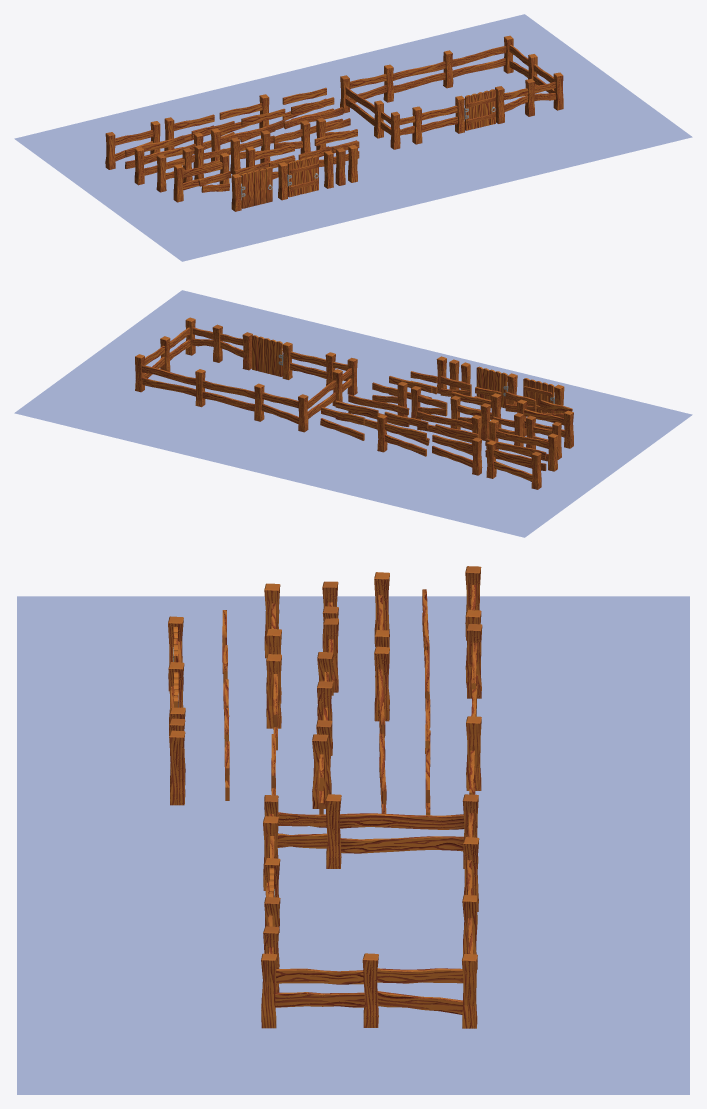
Rendered from fences.glb.
3 views of the same model, one above another, from view 1: azimuth 30°, elevation 25°; view 2: azimuth 150°, elevation 25°; view 3: azimuth 270°, elevation 25° (orthographic). The views are drawn at different scales.
Visible parts, largest first — view 1: Ground, FenceType_1.001, DoorType_2, DoorType_1.001, DoorType_1, FenceType_2.001, FenceType_11, FenceType_8.001, FenceType_5, FenceType_1, FenceType_12.001, FenceType_2.002 (+20 smaller); view 2: Ground, FenceType_1.001, FenceType_5, FenceType_2.001, DoorType_1.001, FenceType_1, FenceType_8.001, FenceType_7, FenceType_6, FenceType_11, FenceType_6.001, FenceType_2 (+20 smaller); view 3: Ground, FenceType_2.002, FenceType_12.002, FenceType_7.001, FenceType_4.001, FenceType_1.001, FenceType_2.001, FenceType_2, FenceType_11, FenceType_12, FenceType_1, FenceType_9 (+6 smaller).
Boxes of the visible parts, x1,y1,x2,y2 form: Ground: (14,14,692,261); FenceType_1.001: (383,50,453,102); DoorType_2: (241,167,272,208); DoorType_1.001: (464,89,495,130); DoorType_1: (287,155,318,197); FenceType_2.001: (452,35,513,77); FenceType_11: (173,152,229,202); FenceType_8.001: (495,78,534,123); FenceType_5: (105,121,160,169); FenceType_1: (134,132,203,185); FenceType_12.001: (412,105,457,144); FenceType_2.002: (345,87,383,138); Ground: (14,290,692,537); FenceType_1.001: (195,369,264,421); FenceType_5: (486,441,541,489); FenceType_2.001: (135,354,195,396); DoorType_1.001: (252,335,283,376); FenceType_1: (488,419,558,471); FenceType_8.001: (212,324,252,370); FenceType_7: (377,414,426,456); FenceType_6: (432,434,482,475); FenceType_11: (517,399,573,448); FenceType_6.001: (261,392,308,432); FenceType_2: (417,411,481,450); Ground: (17,596,689,1094); FenceType_2.002: (325,794,464,868); FenceType_12.002: (261,953,364,1028); FenceType_7.001: (362,953,463,1027); FenceType_4.001: (264,795,327,858); FenceType_1.001: (462,837,479,969); FenceType_2.001: (462,918,477,1028); FenceType_2: (374,646,389,760); FenceType_11: (264,583,281,703); FenceType_12: (266,654,281,750); FenceType_1: (374,572,389,704); FenceType_9: (312,734,328,814).
Bounding box in the file's own units: 31.13 × 2.01 × 17.76.
Materials: 5 (4 with a texture image).
